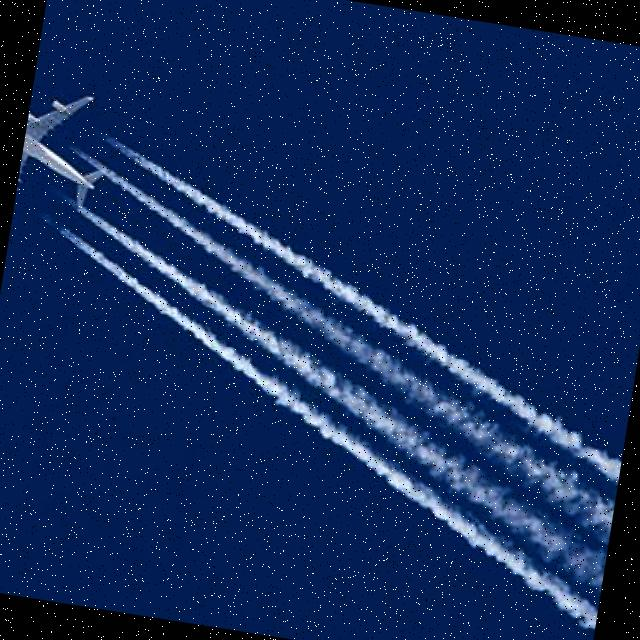Ct: (1, 117, 640, 554)
